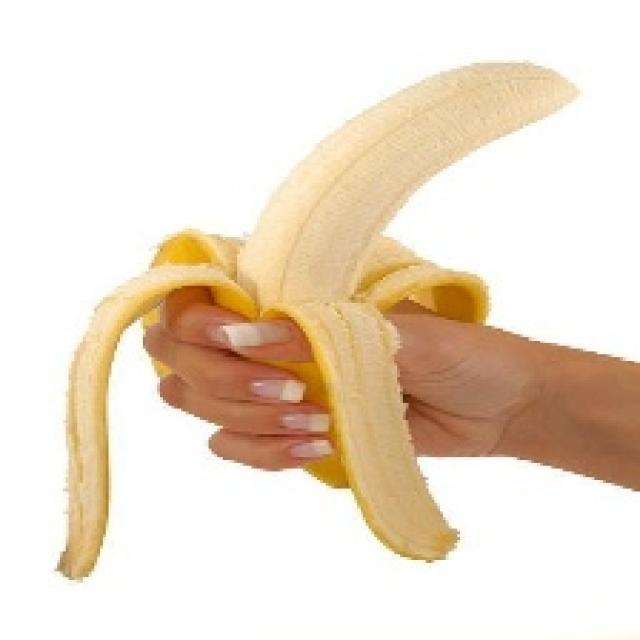Banana: (54, 57, 580, 580)
